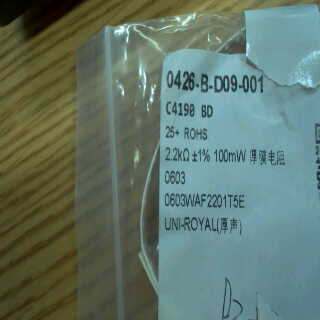2.2kR: (160, 141, 194, 164)
